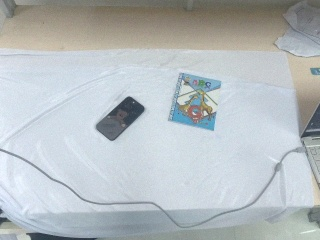book: (166, 69, 224, 132)
phone: (95, 96, 145, 141)
